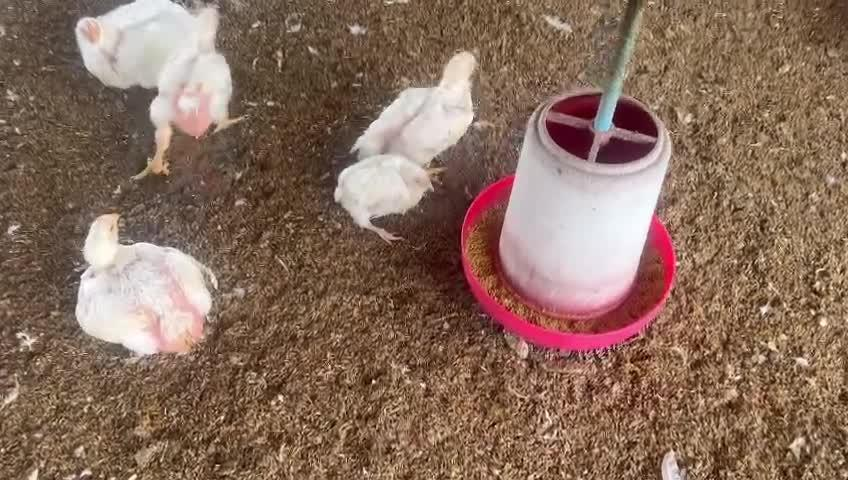AbNormal: (73, 213, 216, 356), (349, 50, 474, 180), (334, 150, 433, 247), (70, 5, 180, 86)
Normal: (135, 4, 243, 187)
